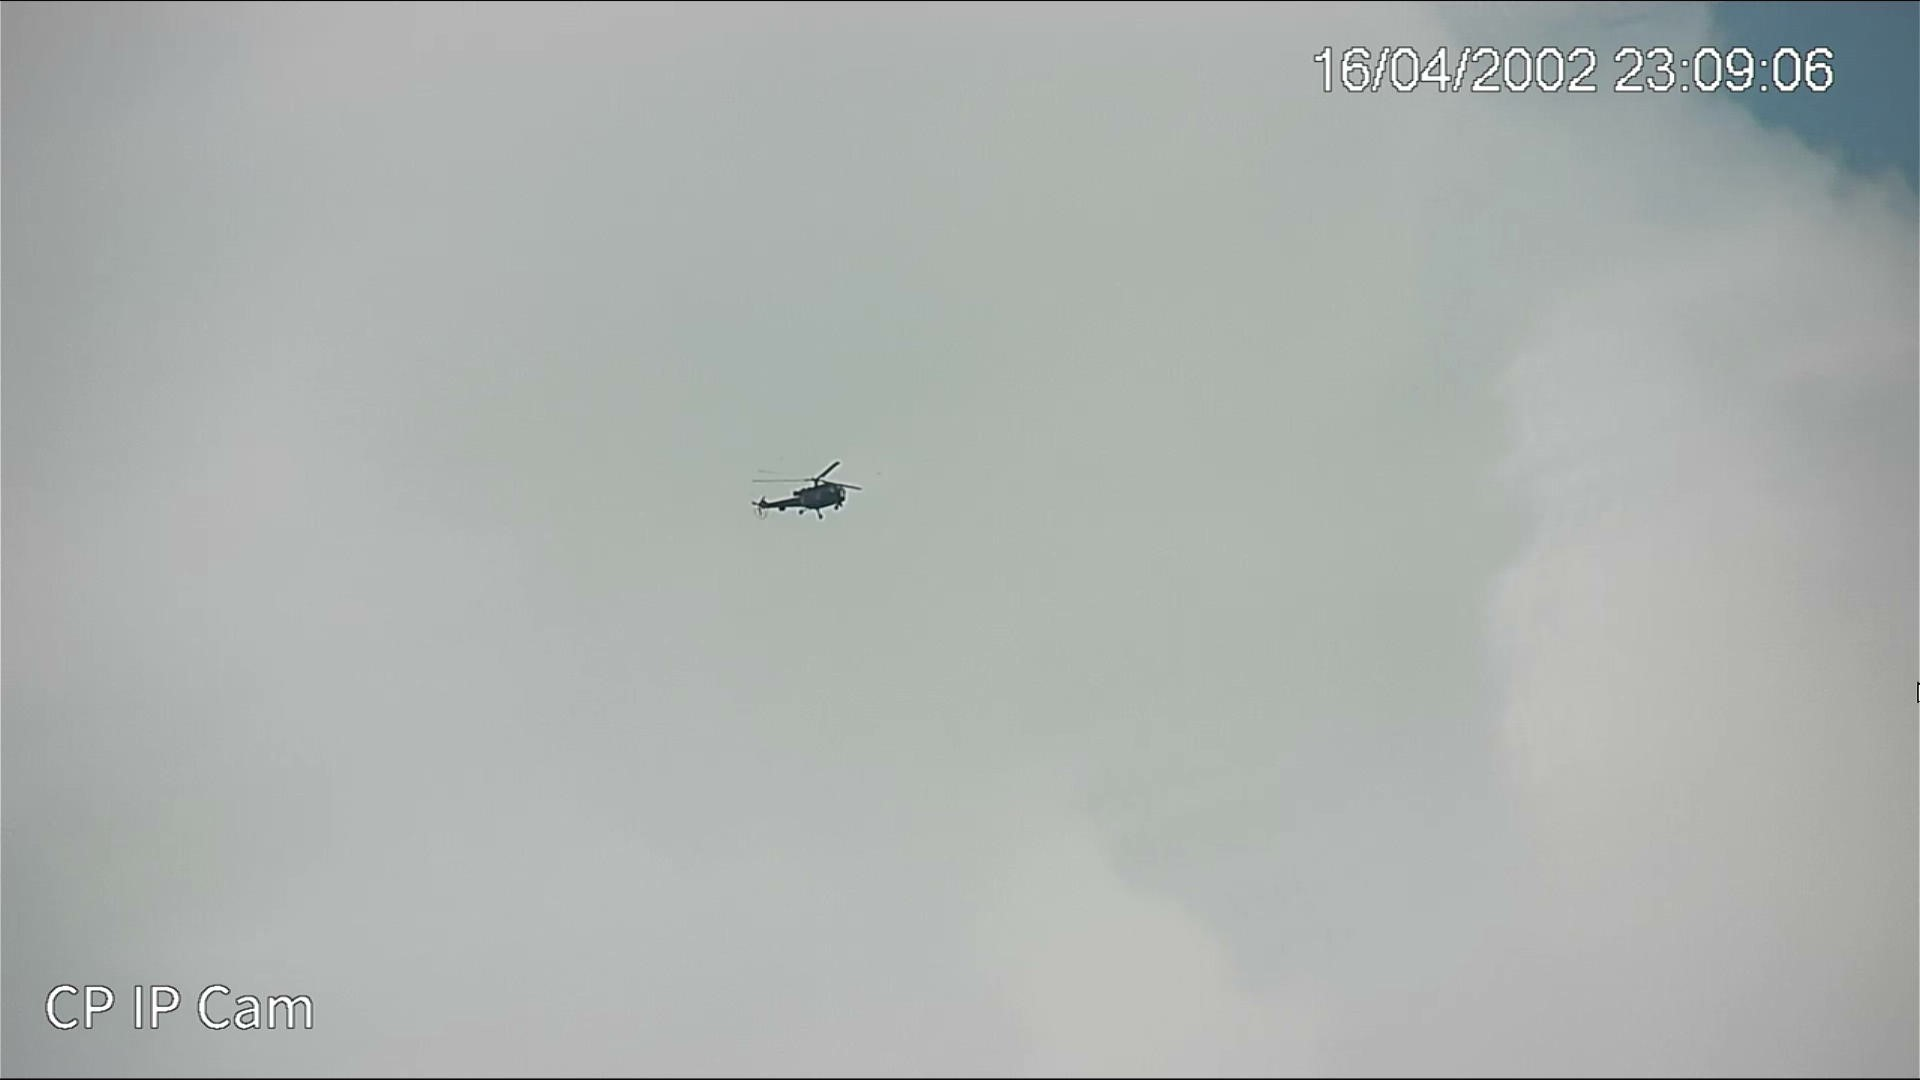SU_30: (752, 483, 858, 513)
